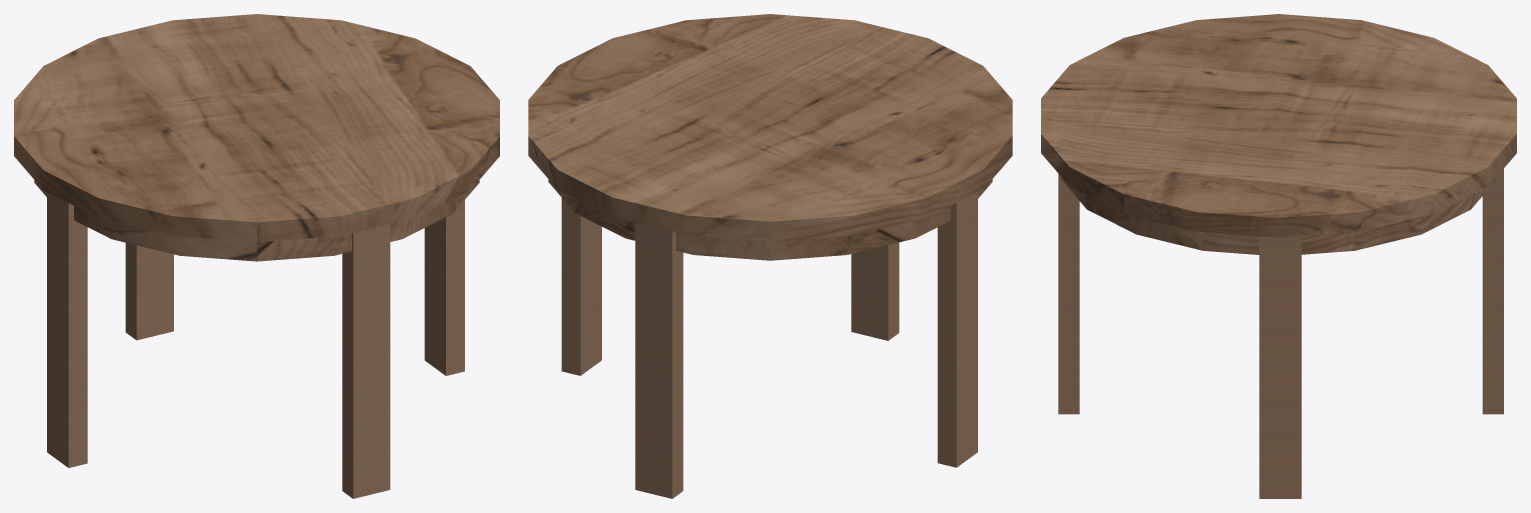
The model's file is RoundTable.FBX.
The picture shows the model from 3 angles, left to right: view 1: azimuth 30°, elevation 25°; view 2: azimuth 150°, elevation 25°; view 3: azimuth 270°, elevation 25°; orthographic projection. The views are drawn at different scales.
Parts seen in each view (by area): view 1: Round Table; view 2: Round Table; view 3: Round Table.
Boxes of the visible parts, x1,y1,x2,y2 form: Round Table: [14, 14, 499, 498]; Round Table: [528, 14, 1012, 498]; Round Table: [1041, 14, 1516, 498].
Size of the model in its own units: 24.59 by 16.18 by 24.21.
